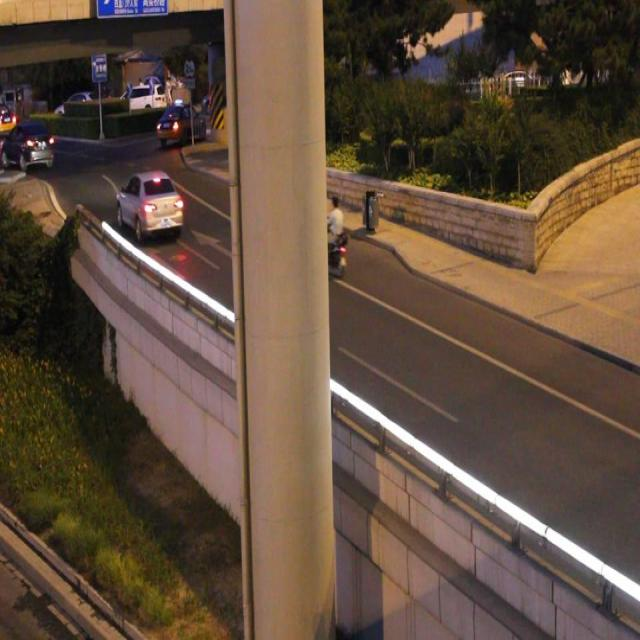car: (118, 174, 183, 231), (157, 102, 205, 143)
